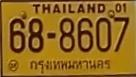0: (95, 17, 111, 51)
6: (77, 17, 92, 51), (10, 18, 24, 52)
7: (113, 16, 128, 51)
8: (28, 17, 43, 52), (59, 17, 74, 51)
BKK: (29, 58, 112, 75)
